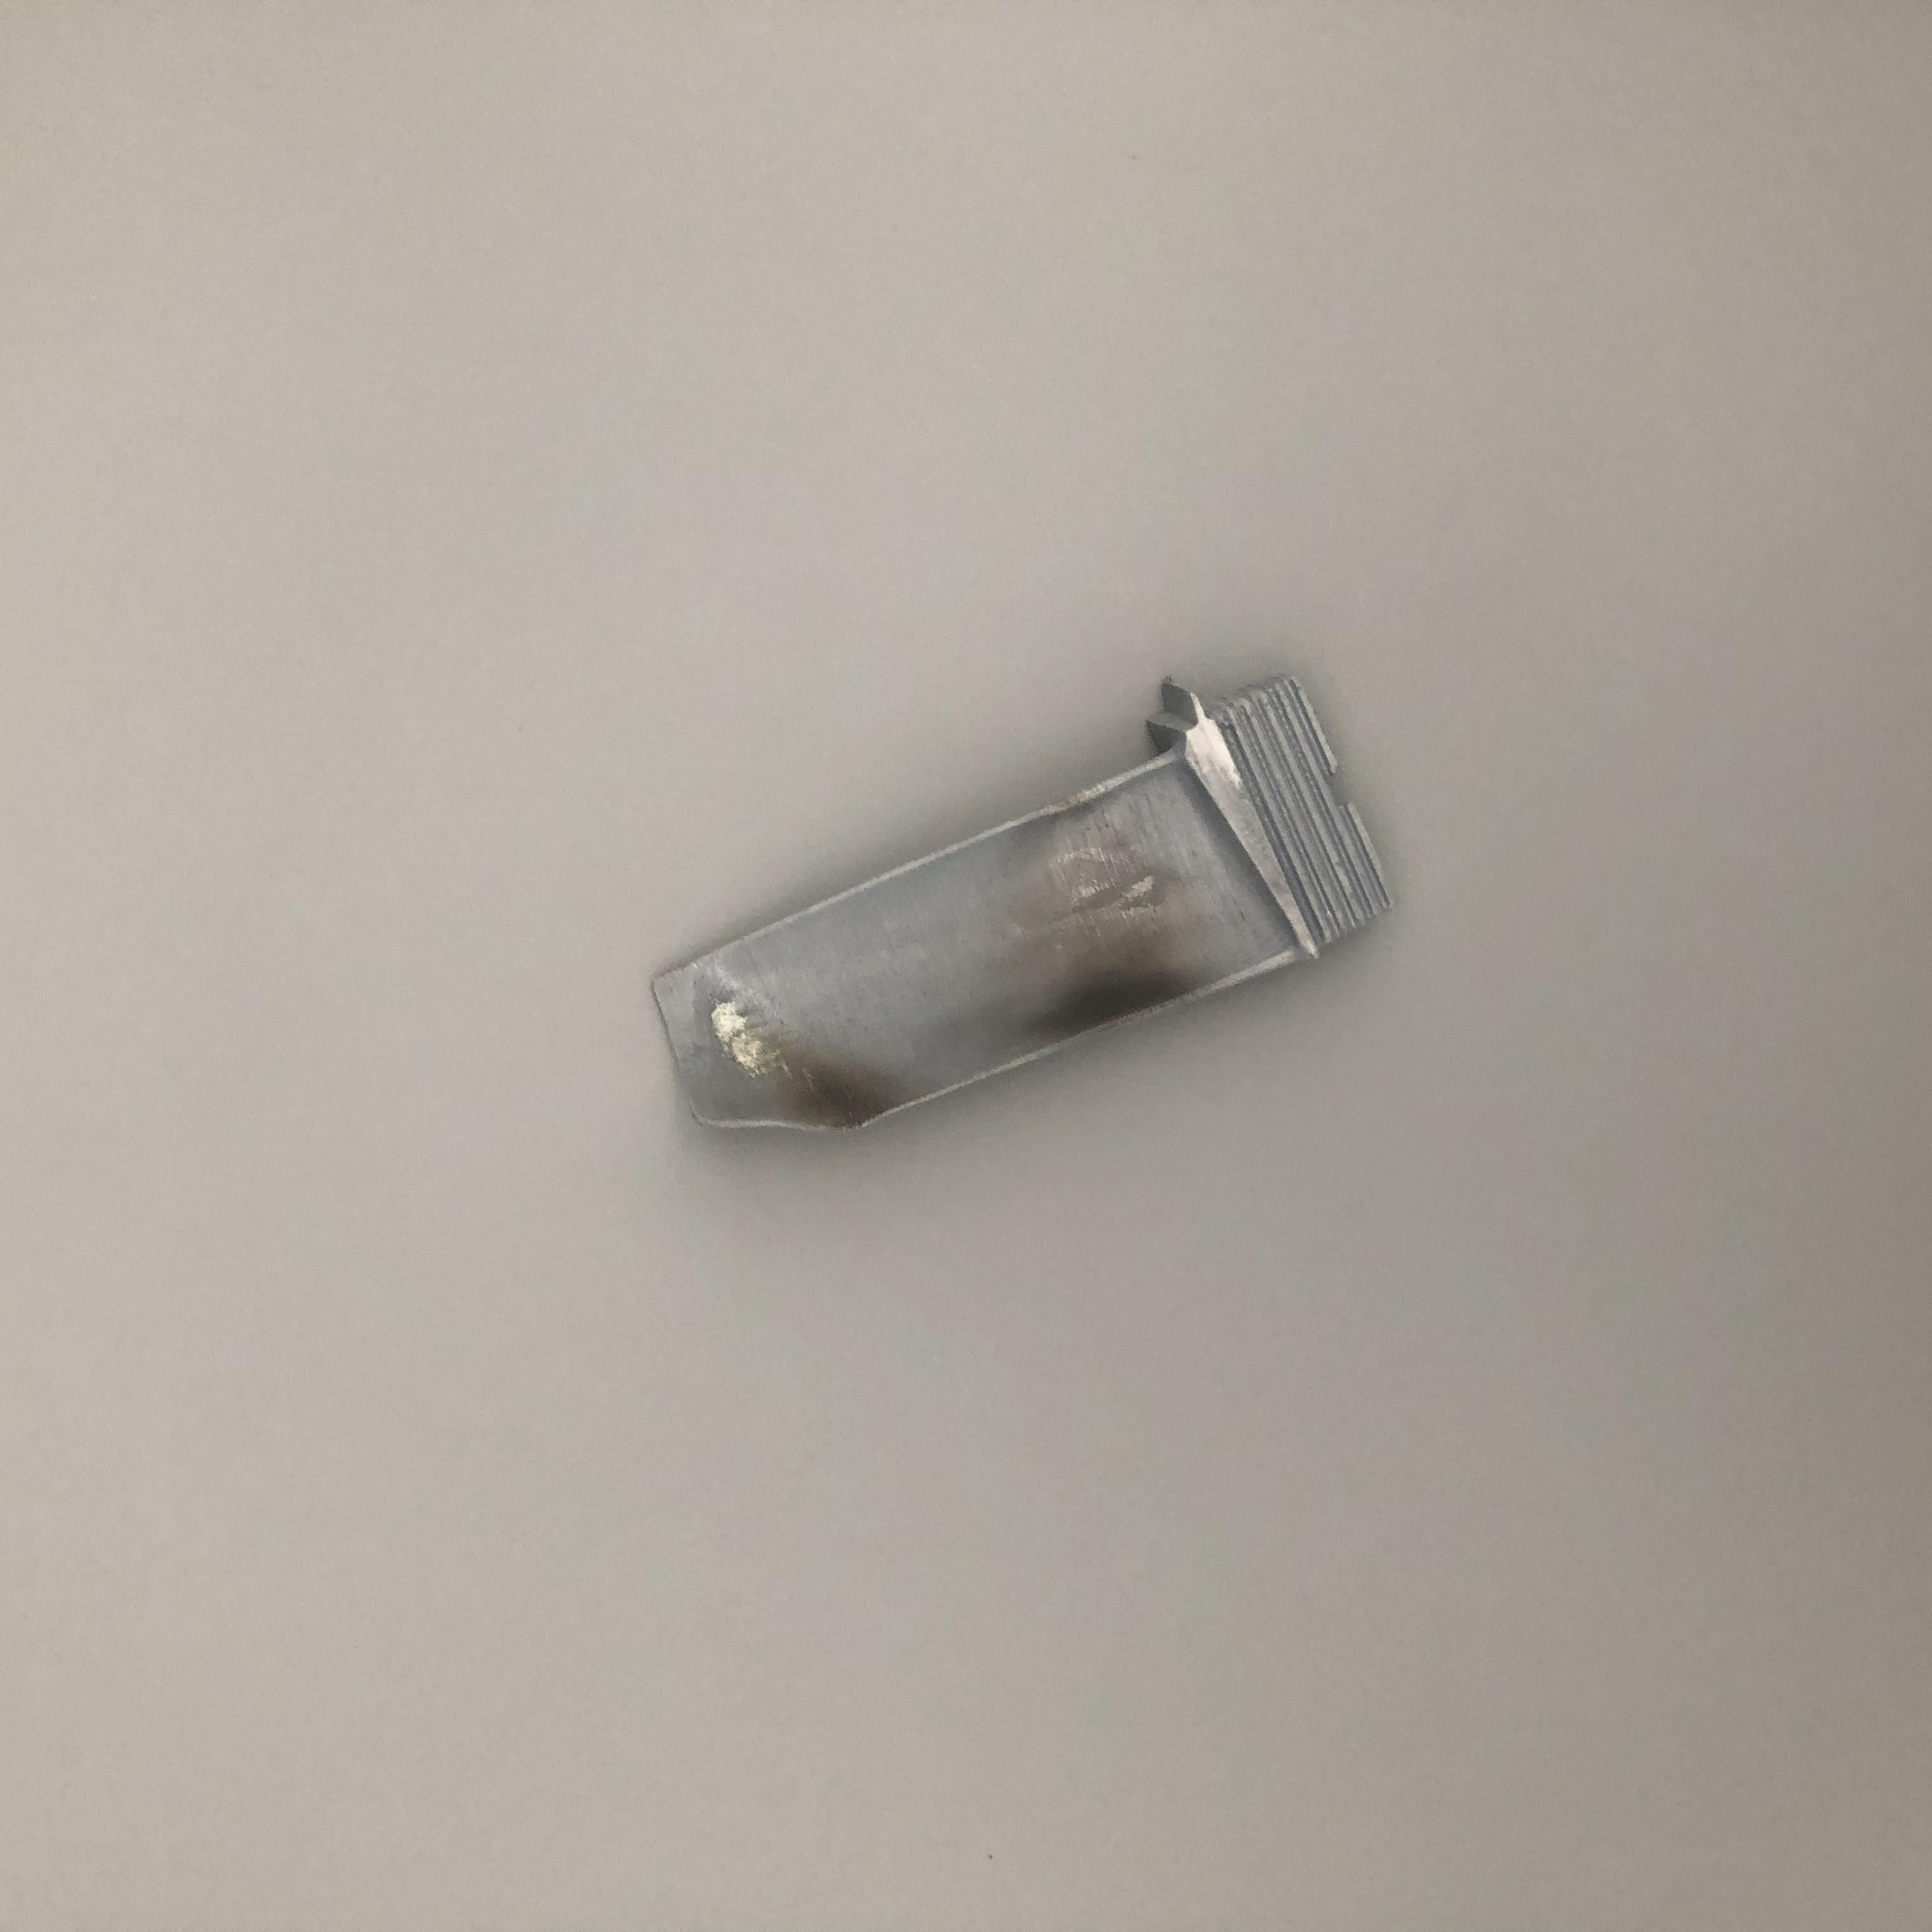ablation: (757, 1019, 897, 1125), (1044, 945, 1196, 1021)
